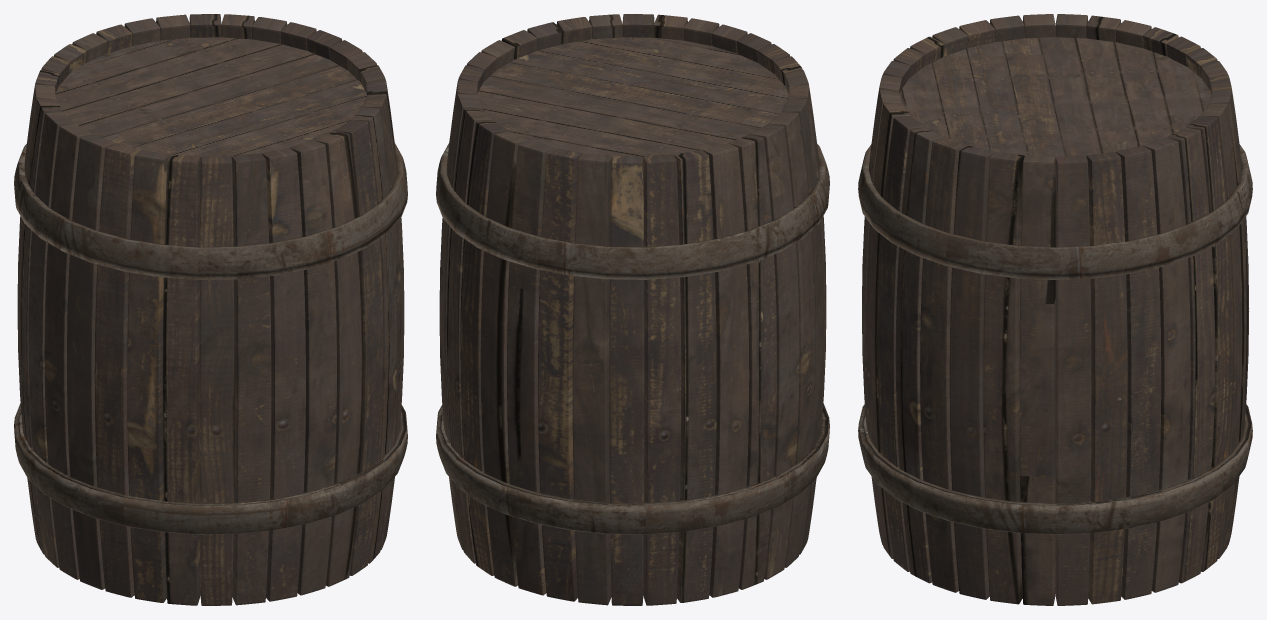
Rendered from Barrel1.obj.
3 views of the same model, side by side, from view 1: azimuth 30°, elevation 25°; view 2: azimuth 150°, elevation 25°; view 3: azimuth 270°, elevation 25° (orthographic).
Visible parts, largest first — view 1: Cylinder, Circle.003, Circle, Circle.001; view 2: Cylinder, Circle.003, Circle, Circle.001; view 3: Cylinder, Circle.003, Circle, Circle.001.
Part boxes in pixels (left/top/right/bottom): Cylinder: left=17, top=14, right=404, bottom=605; Circle.003: left=55, top=37, right=366, bottom=173; Circle: left=14, top=143, right=407, bottom=279; Circle.001: left=14, top=403, right=407, bottom=534; Cylinder: left=439, top=14, right=826, bottom=605; Circle.003: left=477, top=37, right=788, bottom=173; Circle: left=436, top=143, right=829, bottom=279; Circle.001: left=436, top=403, right=829, bottom=534; Cylinder: left=862, top=14, right=1249, bottom=605; Circle.003: left=900, top=37, right=1210, bottom=174; Circle: left=858, top=144, right=1252, bottom=279; Circle.001: left=858, top=404, right=1252, bottom=534.
Size of the model in its own units: 2.45 by 3.04 by 2.45.
Materials: 2 (2 with a texture image).
